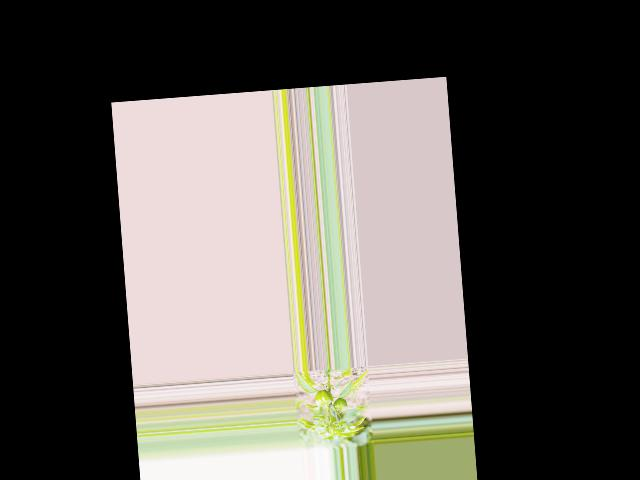bell_pepper: (332, 396, 348, 411)
